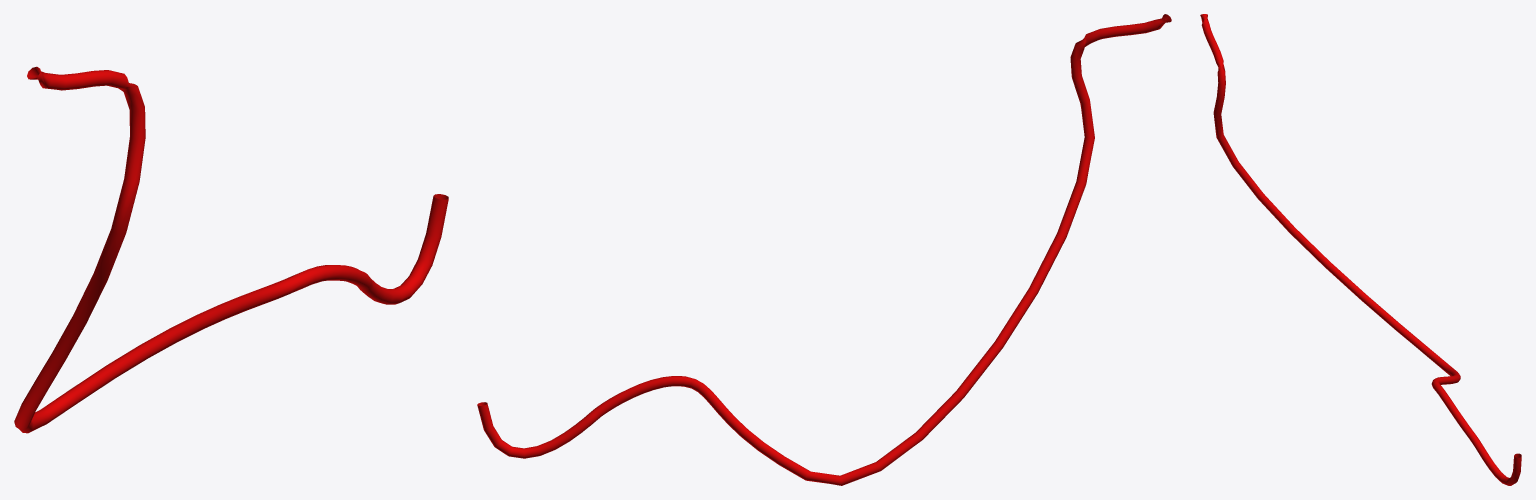
Rendered from Attic_Cable_01_LP_Splines_7.glb.
The picture shows the model from 3 angles, left to right: view 1: azimuth 30°, elevation 25°; view 2: azimuth 150°, elevation 25°; view 3: azimuth 270°, elevation 25°; orthographic projection. The views are drawn at different scales.
Parts seen in each view (by area): view 1: Attic_Cable_01_LP_Splines_7; view 2: Attic_Cable_01_LP_Splines_7; view 3: Attic_Cable_01_LP_Splines_7.
Part boxes in pixels (x1=…): Attic_Cable_01_LP_Splines_7: x1=14, y1=66, x2=448, y2=433; Attic_Cable_01_LP_Splines_7: x1=477, y1=14, x2=1171, y2=485; Attic_Cable_01_LP_Splines_7: x1=1200, y1=14, x2=1521, y2=485.
Size of the model in its own units: 2.24 by 1.79 by 1.7.
